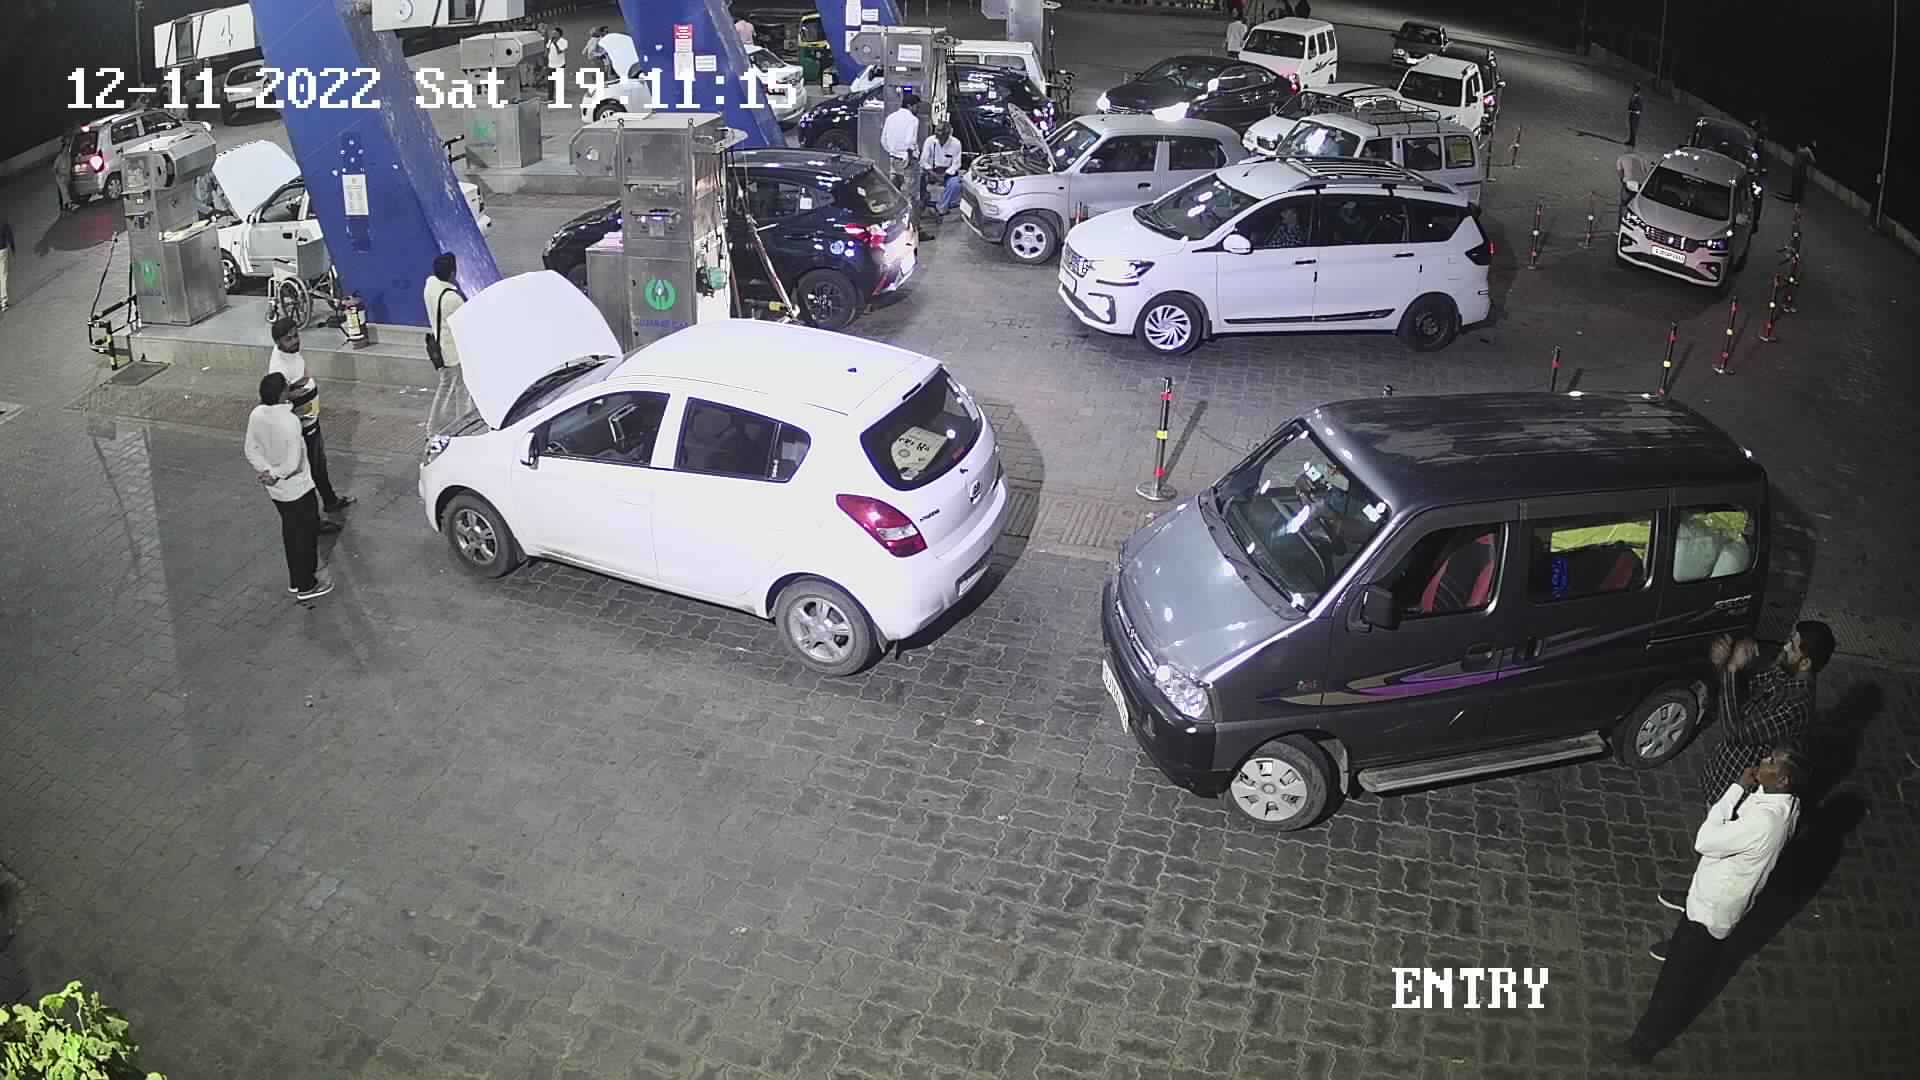Car: (1092, 365, 1817, 847), (405, 258, 1025, 694), (1051, 156, 1503, 361), (674, 133, 928, 328), (964, 102, 1270, 261), (1247, 71, 1510, 240), (1087, 34, 1305, 167), (195, 131, 355, 305), (1606, 135, 1767, 299), (1354, 26, 1513, 178), (51, 94, 216, 215), (938, 26, 1062, 146), (1218, 7, 1353, 113), (1673, 104, 1774, 240), (206, 41, 289, 131), (737, 32, 814, 125)
